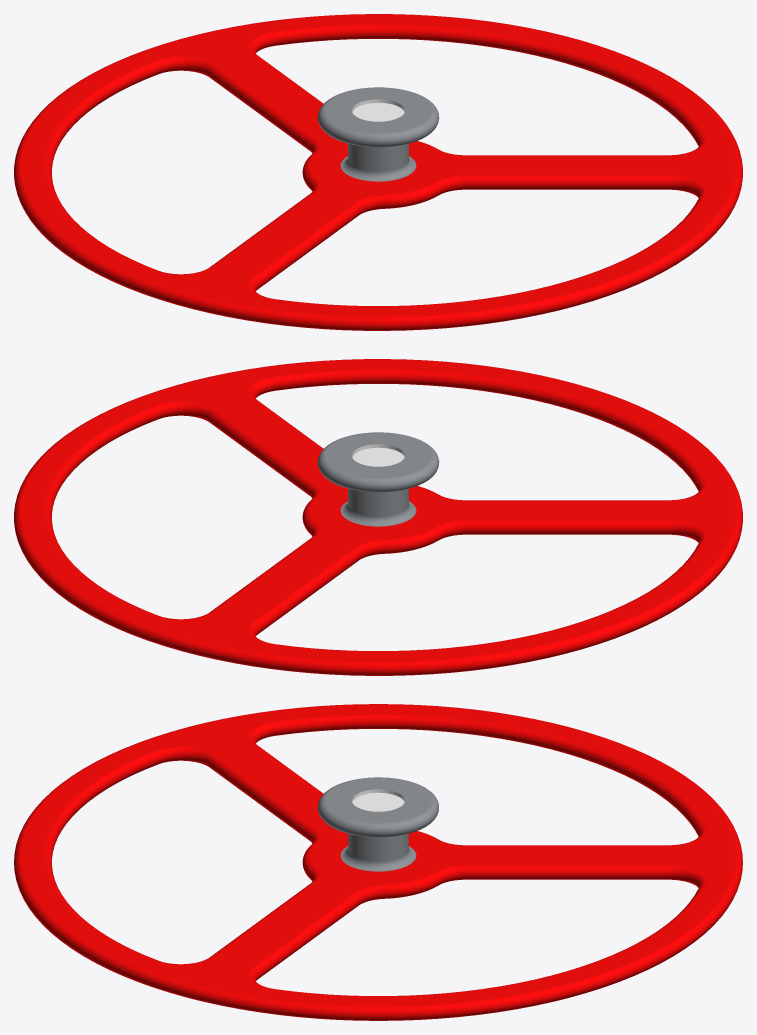
File: panel.glb
3 renders of one model, top to bottom at view 1: azimuth 30°, elevation 25°; view 2: azimuth 150°, elevation 25°; view 3: azimuth 270°, elevation 25°, orthographic.
Visible parts, largest first — view 1: Story Panel; view 2: Story Panel; view 3: Story Panel.
Boxes of the visible parts, x1=… form: Story Panel: x1=14, y1=14, x2=742, y2=330; Story Panel: x1=14, y1=359, x2=742, y2=675; Story Panel: x1=14, y1=704, x2=742, y2=1020.
Bounding box in the file's own units: 0.6095 × 0.0635 × 0.6095.
